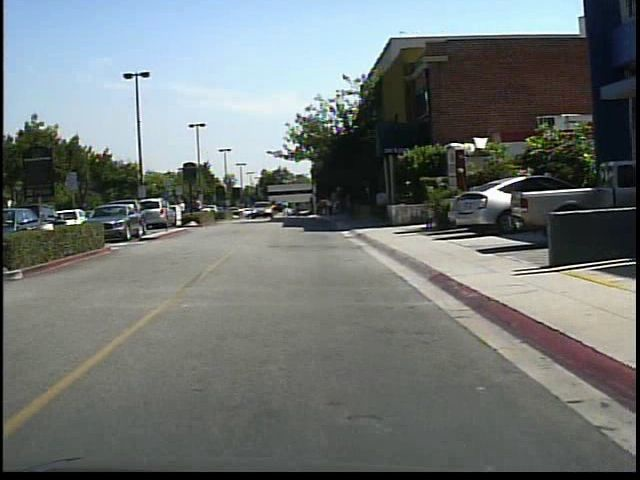person: (174, 194, 190, 225), (277, 196, 291, 223)
